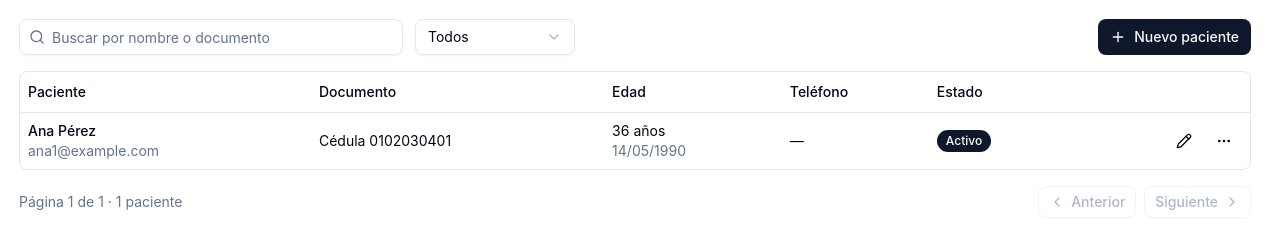
PatientsPage › shows the no results state with filters
The image size is (1268, 235).
Expected: the text "Ana Pérez" is shown, [28,122,96,138]
In the search field named "Buscar pacientes": (211, 37) [19,19,403,55], type "zzz"
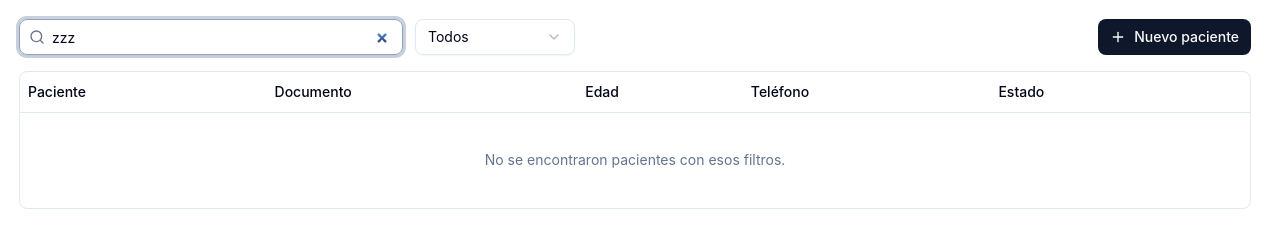
Expected: the text "No se encontraron pacientes con esos filtros." is shown, [20,112,1250,208]
